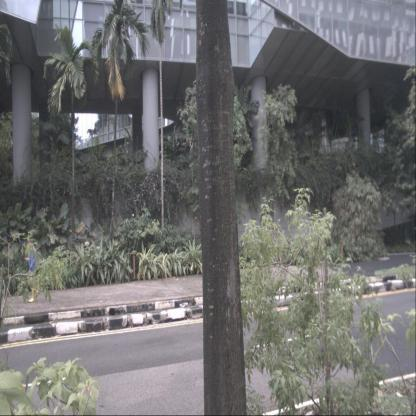human-pedestrian-adult: (24, 236, 39, 302)
